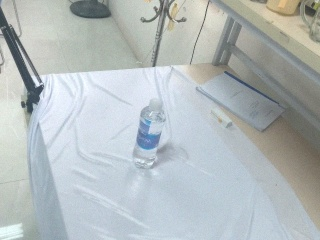bottle: (132, 98, 166, 169)
